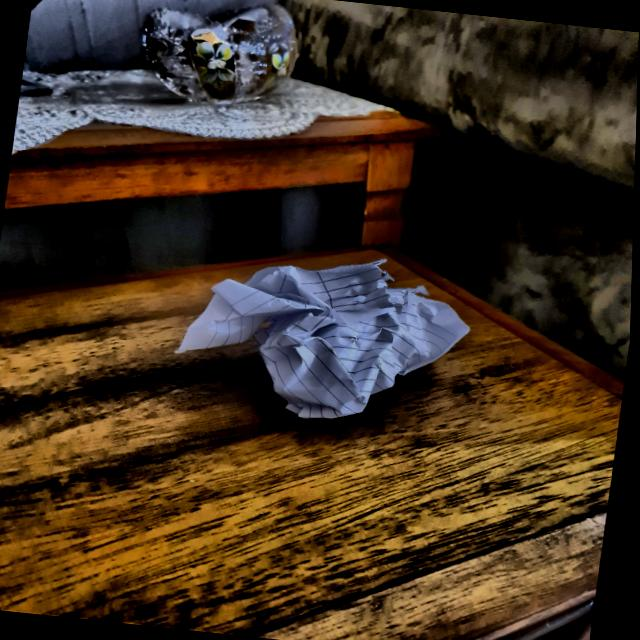Paper: (188, 243, 473, 435)
